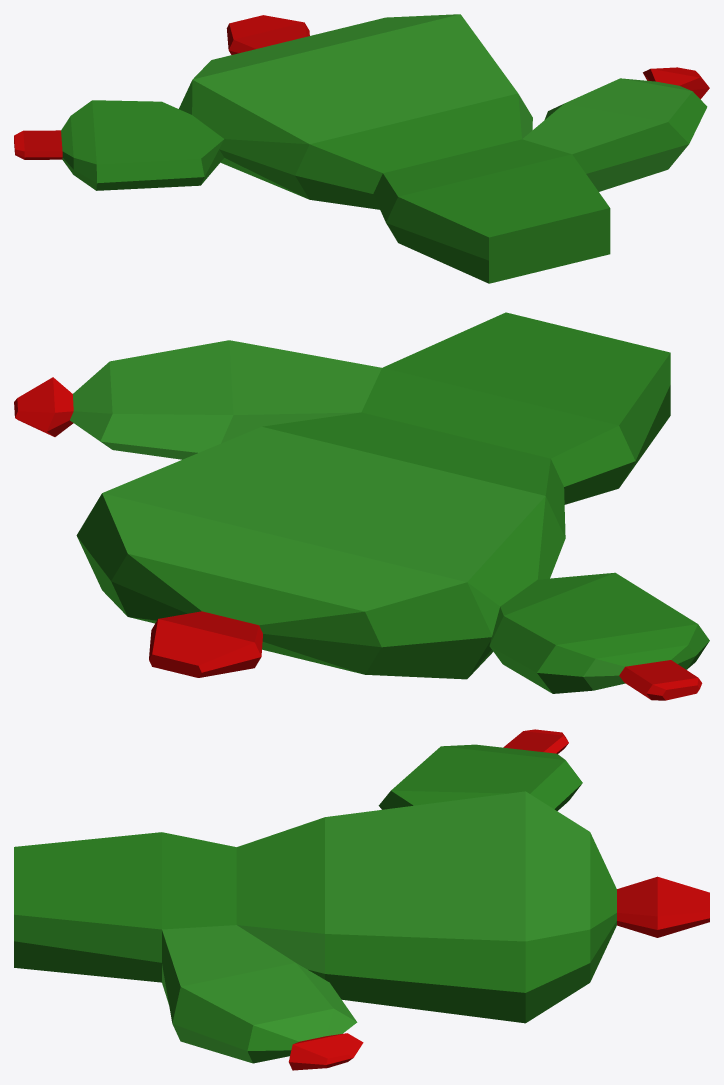
File: cactus_5.fbx
3 views of the same model, one above another, from view 1: azimuth 30°, elevation 25°; view 2: azimuth 150°, elevation 25°; view 3: azimuth 270°, elevation 25° (orthographic). The views are drawn at different scales.
Visible parts, largest first — view 1: cactus_5; view 2: cactus_5; view 3: cactus_5.
Part boxes in pixels (left/top/right/bottom): cactus_5: left=14, top=14, right=709, bottom=283; cactus_5: left=14, top=312, right=709, bottom=700; cactus_5: left=14, top=729, right=709, bottom=1070.
Size of the model in its own units: 45.39 by 5.21 by 40.15.
